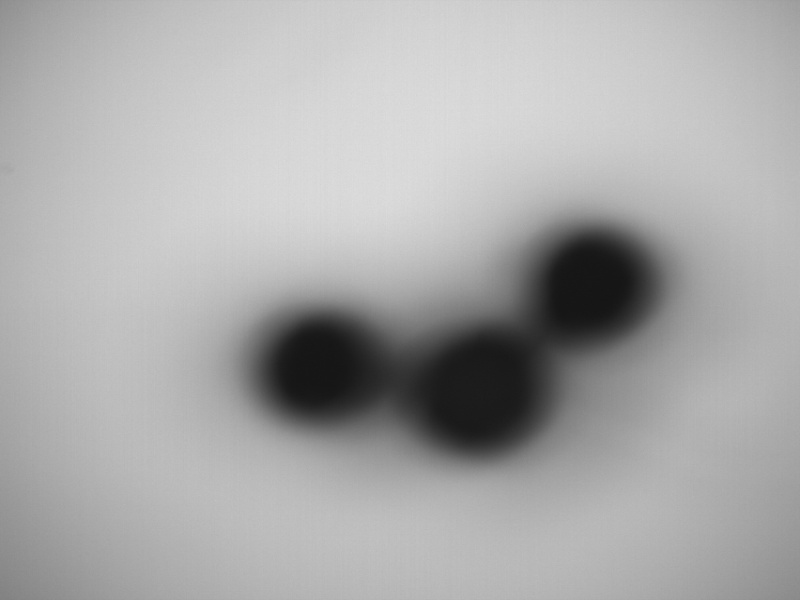bead: (416, 331, 547, 455), (262, 311, 391, 424), (537, 228, 651, 346)
